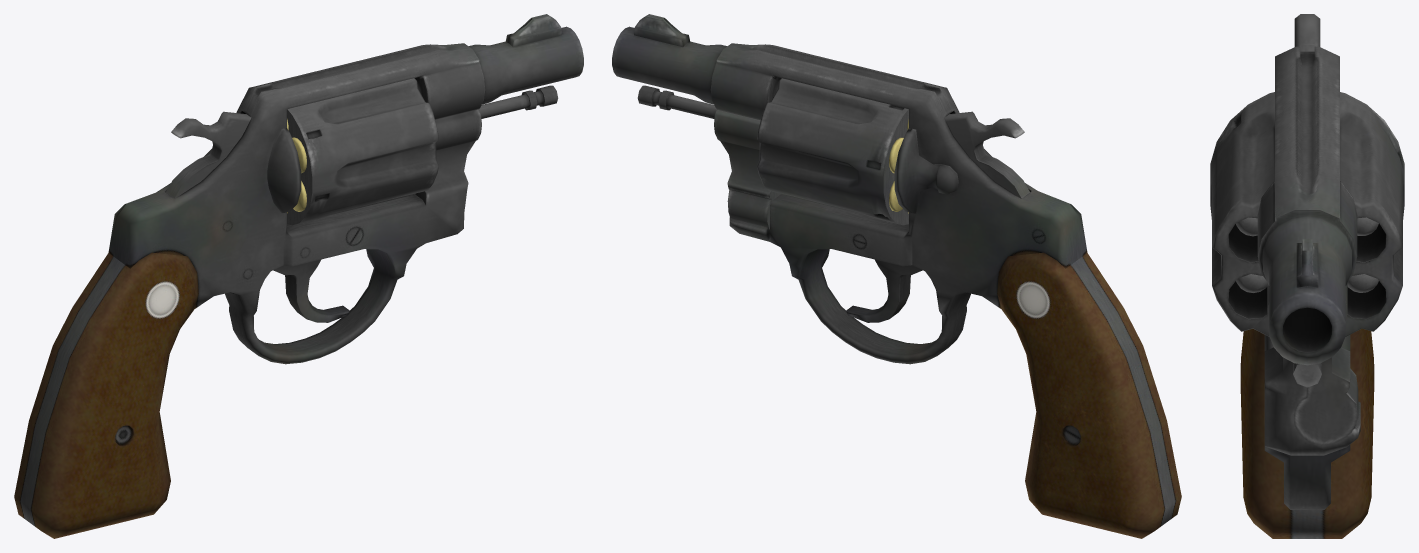
Rendered from revolver.glb.
3 views of the same model, side by side, from view 1: azimuth 30°, elevation 25°; view 2: azimuth 150°, elevation 25°; view 3: azimuth 270°, elevation 25° (orthographic). The views are drawn at different scales.
Visible parts, largest first — view 1: Body, Cylinder, Hammer, Trigger; view 2: Body, Cylinder, Hinge, Hammer, Trigger; view 3: Body, Cylinder, Hinge, Hammer.
Boxes of the visible parts, x1,y1,x2,y2 form: Body: (14, 14, 583, 538); Cylinder: (287, 78, 558, 225); Hammer: (166, 111, 251, 198); Trigger: (273, 259, 349, 322); Body: (612, 14, 1181, 538); Cylinder: (637, 78, 908, 225); Hinge: (714, 110, 780, 229); Hammer: (944, 111, 1029, 198); Trigger: (846, 259, 922, 322); Body: (1240, 46, 1374, 538); Cylinder: (1210, 92, 1404, 387); Hinge: (1293, 283, 1358, 445); Hammer: (1294, 14, 1320, 51).
Size of the model in its own units: 0.26 by 0.1785 by 0.0539.
Materials: 2 (2 with a texture image).
